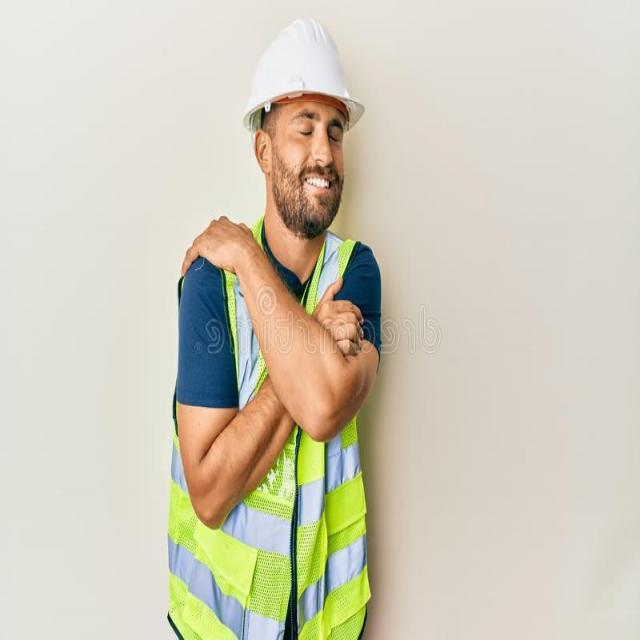Reflective-Jacket: (162, 231, 370, 629)
Safety-Helmet: (239, 17, 364, 137)
